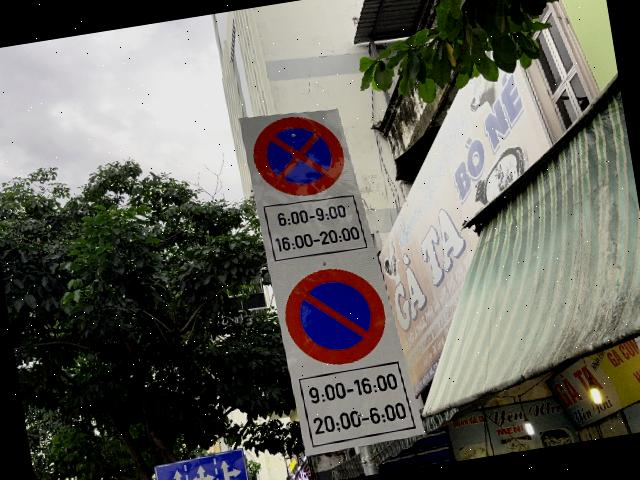cam-do-xe: (278, 261, 390, 372)
cam-dung-va-do-xe: (248, 108, 350, 204)
